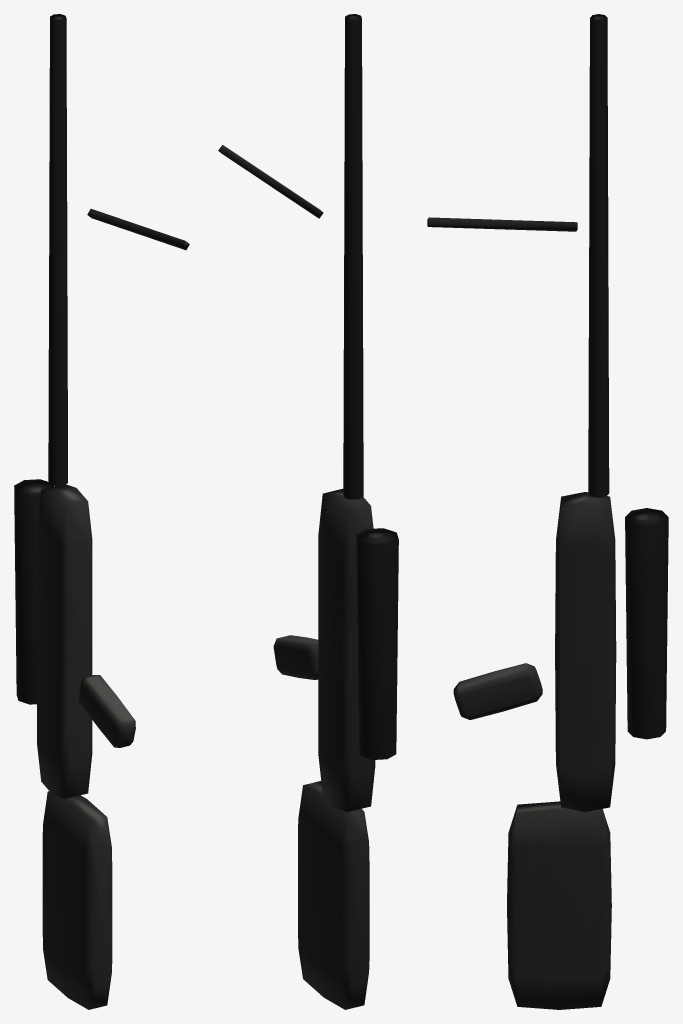
Rendered from fusil-precision.glb.
3 views of the same model, side by side, from view 1: azimuth 30°, elevation 25°; view 2: azimuth 210°, elevation 25°; view 3: azimuth 270°, elevation 25° (orthographic). The views are drawn at different scales.
Parts seen in each view (by area): view 1: fusil-precision; view 2: fusil-precision; view 3: fusil-precision.
Boxes of the visible parts, <box> form: fusil-precision: <box>14,14,189,1009</box>; fusil-precision: <box>218,14,398,1009</box>; fusil-precision: <box>427,14,668,1009</box>.
Bounding box in the file's own units: 0.0909 × 1.25 × 0.276.
1 material, 1 textured.
